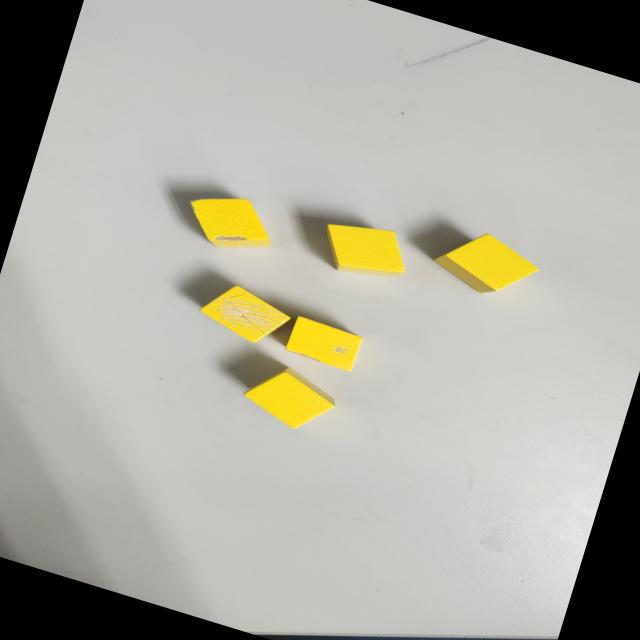broken: (175, 180, 286, 268), (194, 274, 296, 350), (283, 314, 365, 372)
yellow: (426, 218, 547, 312), (236, 355, 343, 442), (313, 210, 417, 290)
